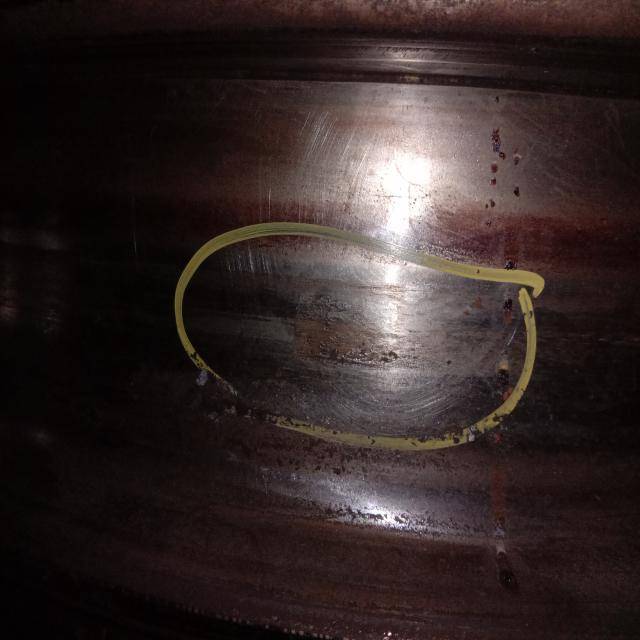Blue hole: (511, 182, 526, 208)
Peeling: (410, 420, 505, 460), (320, 336, 410, 375)
